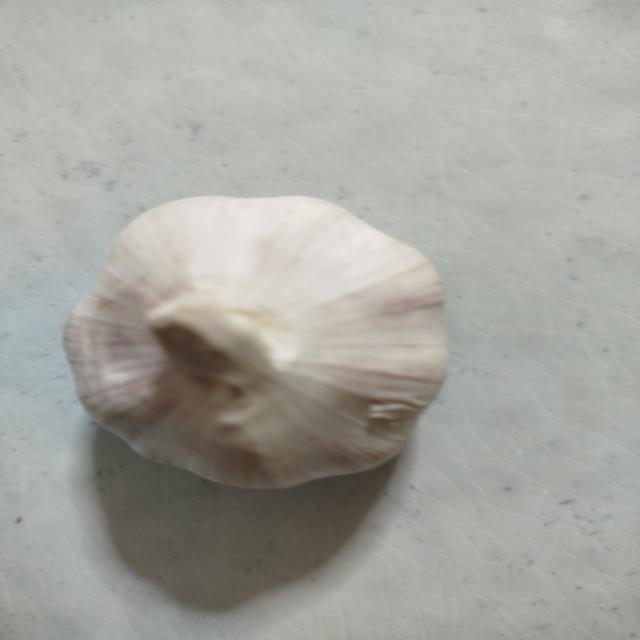garlic: (62, 194, 450, 490)
